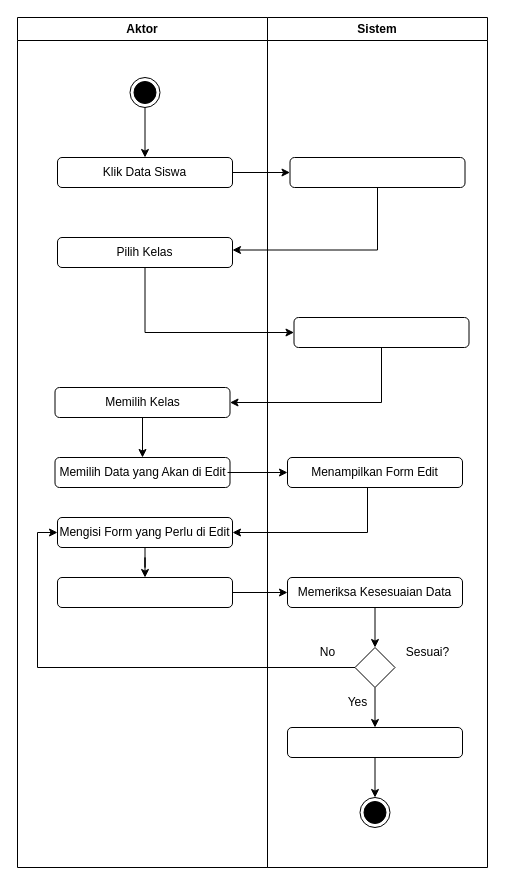
Some shapes in this 505 by 885 pixel diagram are drawn without their labels. The centre of each missing label's shape, as x and y in pixels:
Menampilkan Kelas-Kelas: point (377, 172)
Menampilkan Pilihan Kelas: point (381, 332)
Menyimpan Data ke Database: point (374, 742)
Update Data: point (144, 592)
